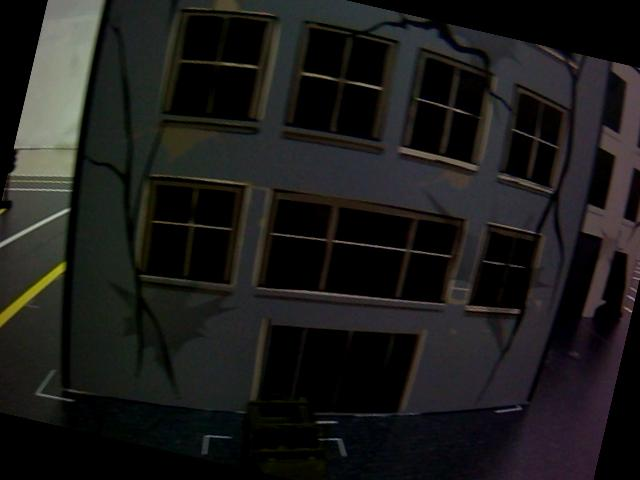Car: (218, 377, 350, 480)
